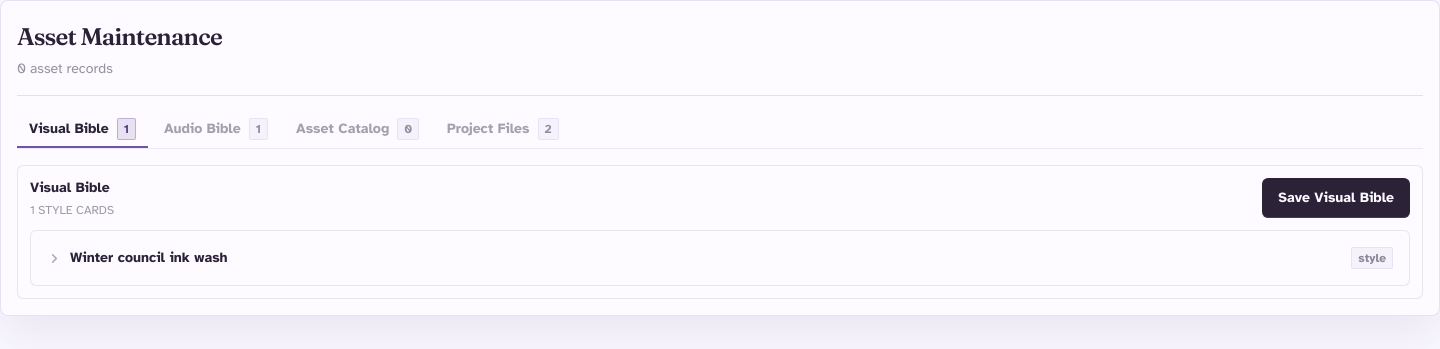
it: AssetMaintenanceView › renders Audio Bible section with voice card title as collapsible label
Click the tab "Audio Bible 1".
click(216, 130)  # box [152, 112, 280, 148]
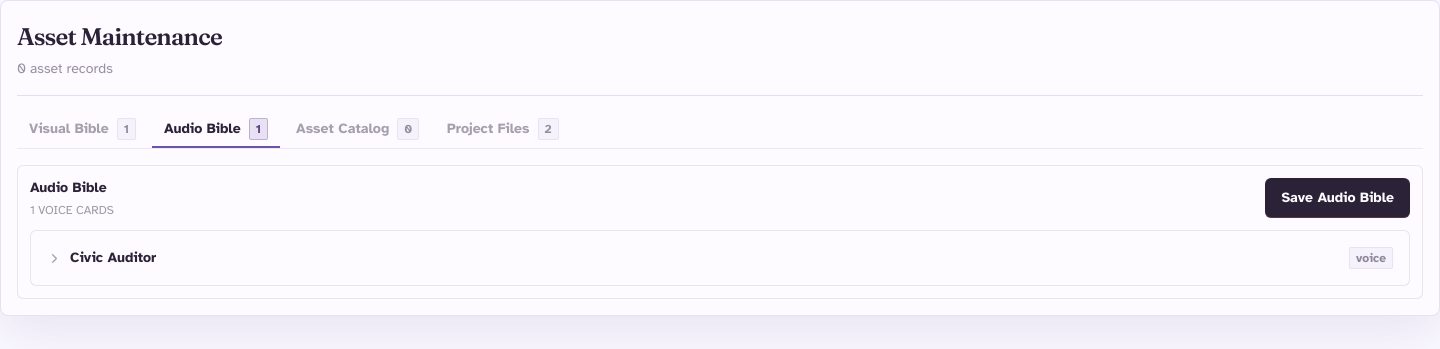
Result: the button "Civic Auditor voice" is shown at [43, 243, 1397, 273]
